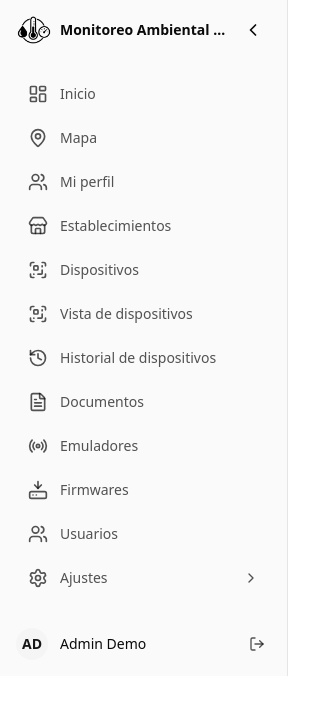
Test: Sidebar › mantiene solo configuración dentro de Ajustes
Click the button "Ajustes" at coordinates (144, 578), box [16,560,271,596]
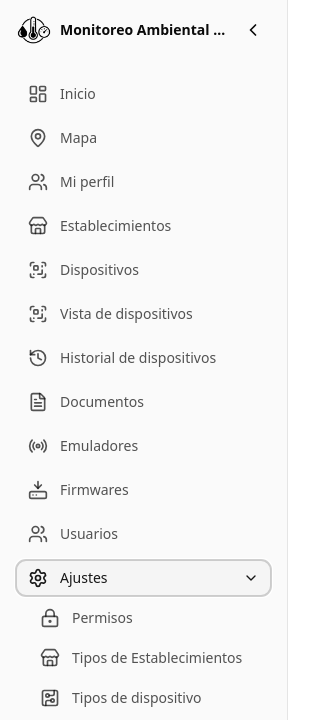
Expected: the number of links "Dispositivos" is 1, [28,260,139,280]
Now the number of links "Usuarios" is 1, box [28,524,118,544]
